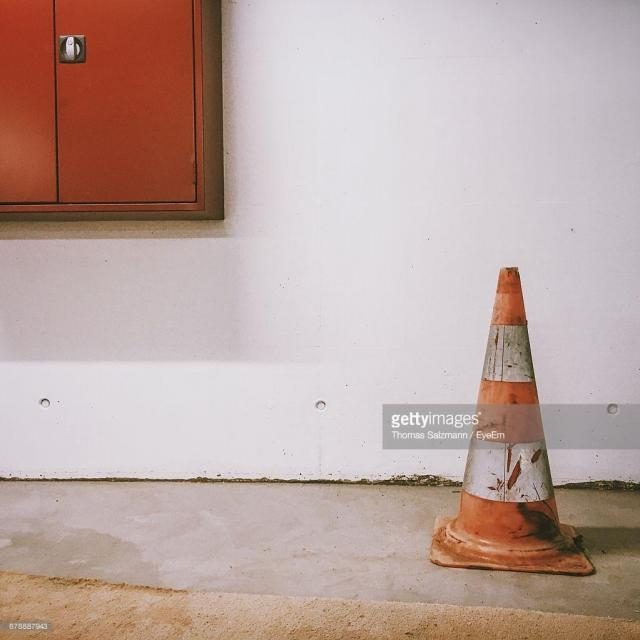Cone: (427, 266, 600, 584)
